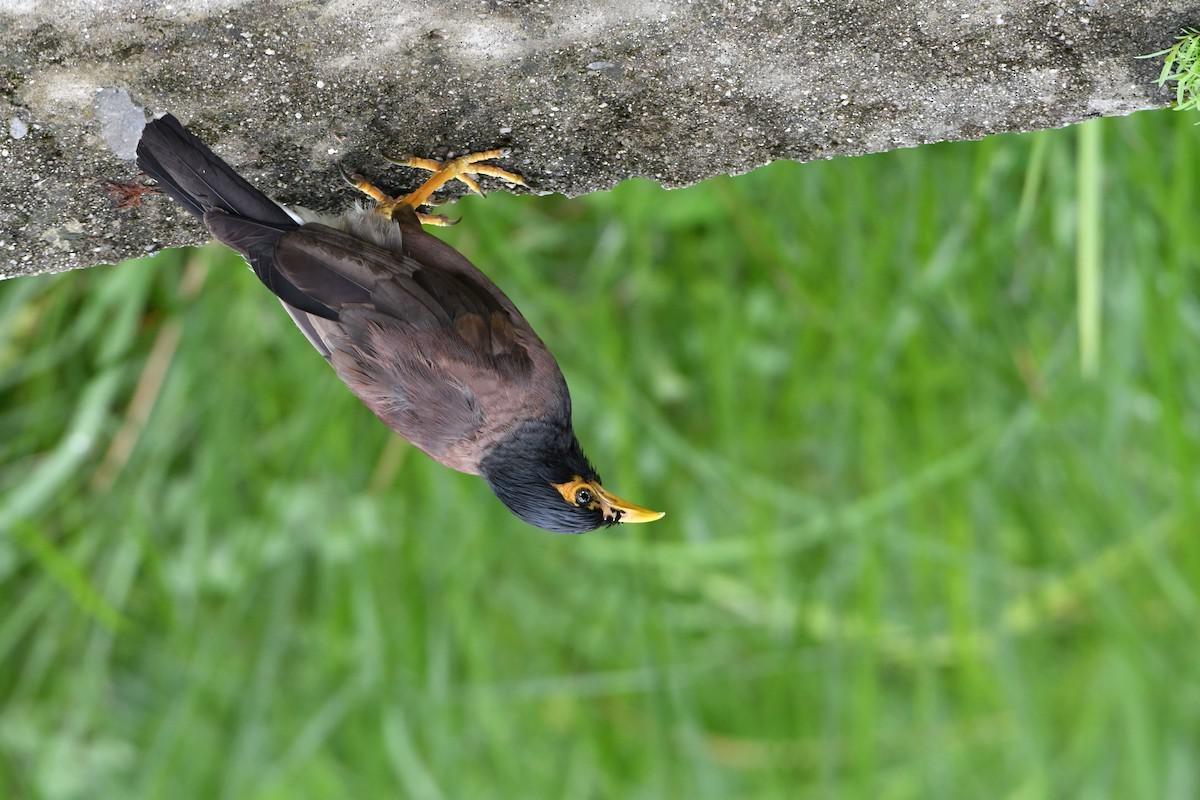myna: (195, 136, 667, 556)
